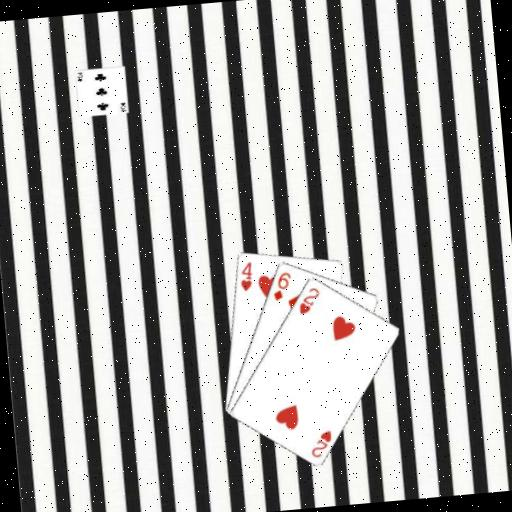2H: (306, 426, 335, 459), (295, 283, 323, 316)
4H: (236, 259, 255, 293)
6D: (268, 269, 294, 303)
